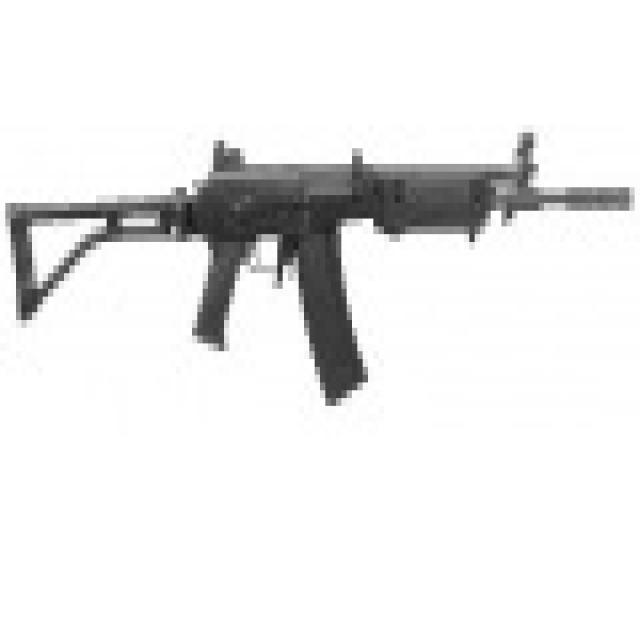Gun: (6, 103, 640, 412)
